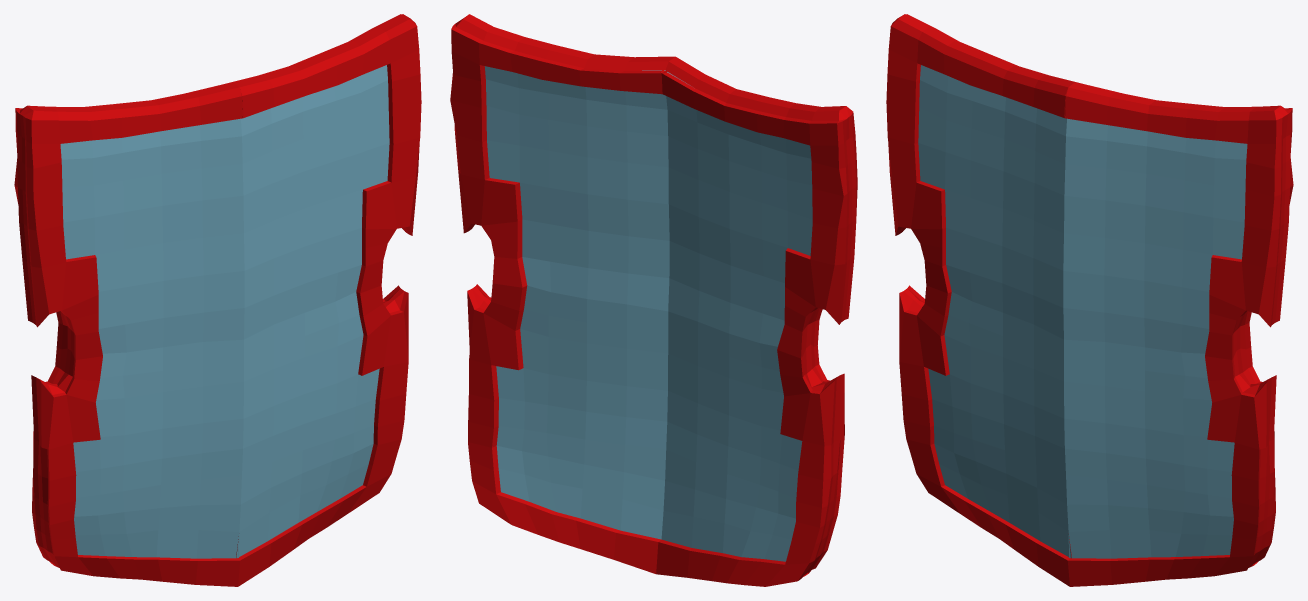
File: Model Shield.fbx
The picture shows the model from 3 angles, left to right: view 1: azimuth 30°, elevation 25°; view 2: azimuth 150°, elevation 25°; view 3: azimuth 330°, elevation 25°; orthographic projection.
Visible parts, largest first — view 1: Cube; view 2: Cube; view 3: Cube.
Part boxes in pixels (x1,y1,x2,y2): Cube: (14, 14, 421, 586); Cube: (450, 14, 857, 586); Cube: (886, 14, 1293, 586).
Size of the model in its own units: 370 by 462 by 68.61.
